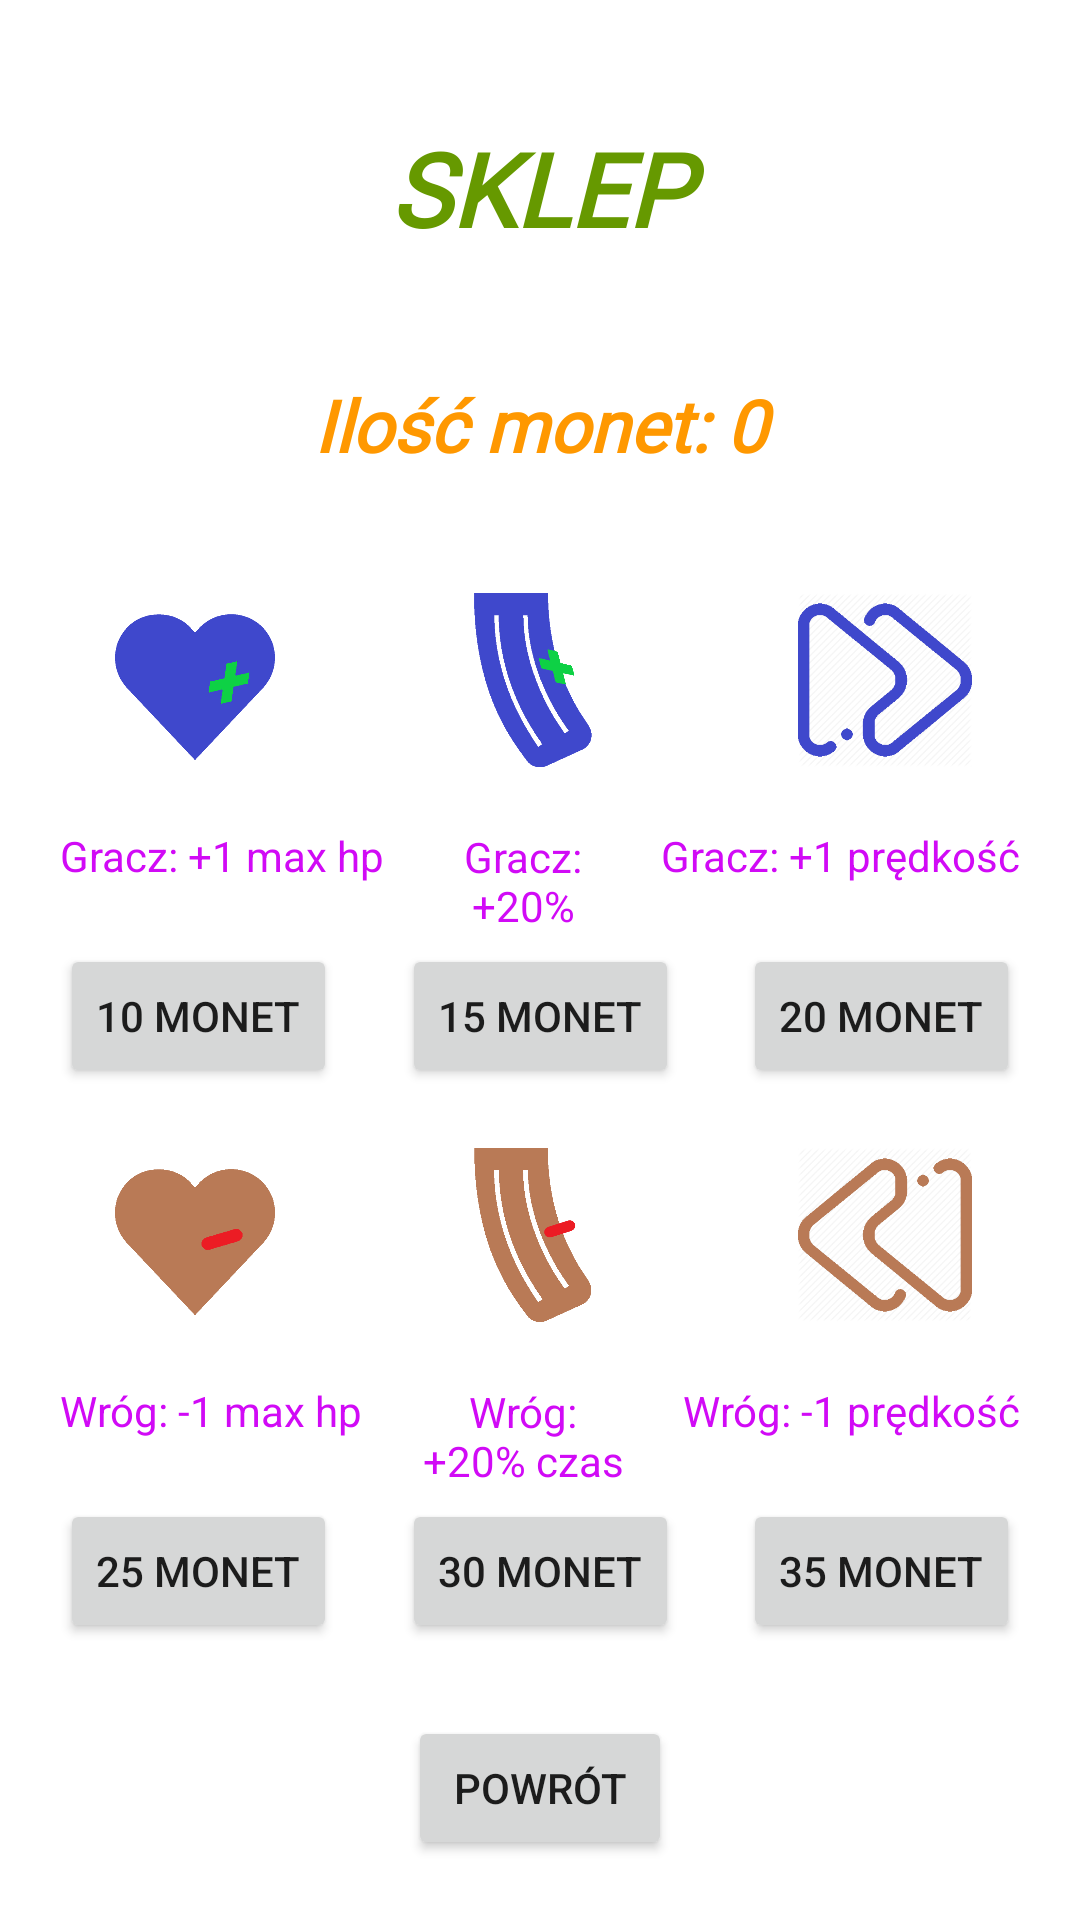

Icons on this 1080px×1920px Android screen, each with the point to tap as [x,y]:
fast: [885,680]
hpminus: [195,1242]
hpplus: [195,687]
magazineb: [533,680]
magde: [532,1235]
slow: [885,1235]
